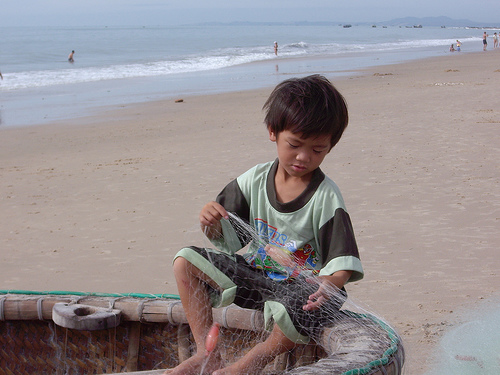without_mask: (255, 79, 365, 184)
